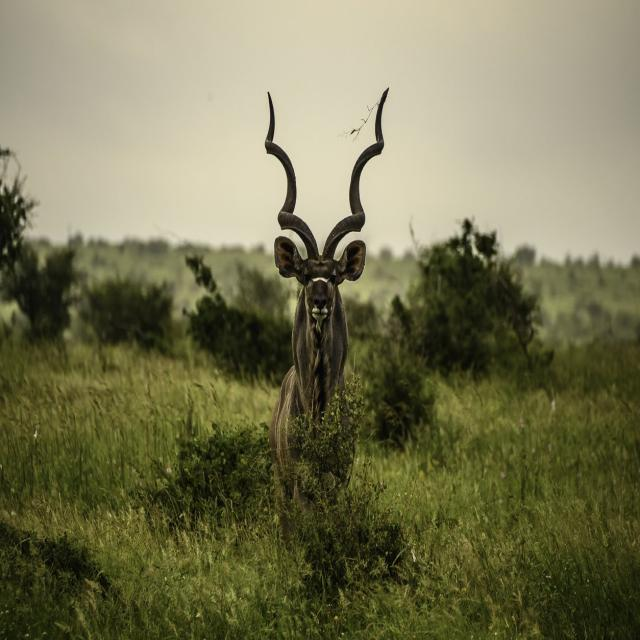Antelope: (254, 71, 394, 516)
